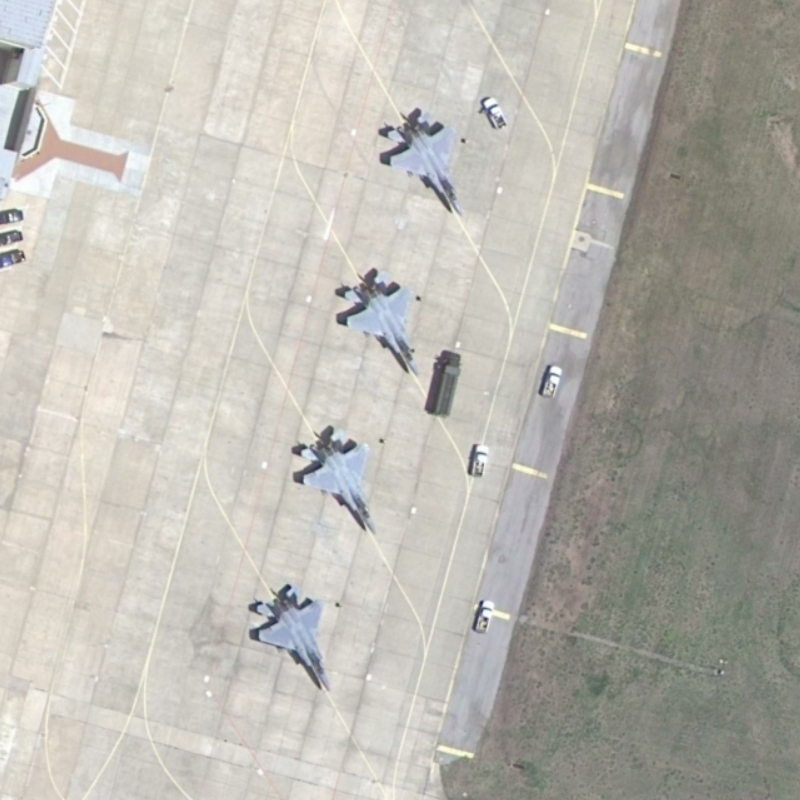A13: (371, 97, 485, 221), (334, 266, 440, 391), (245, 581, 346, 700), (290, 422, 391, 539)
